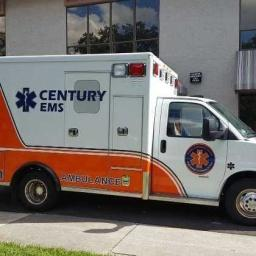Ambulance: (0, 53, 255, 224)
